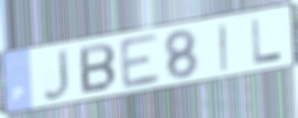8: (164, 27, 203, 81)
B: (78, 41, 118, 97)
E: (118, 30, 163, 92)
I: (217, 21, 229, 74)
J: (40, 47, 71, 103)
L: (249, 17, 284, 66)
